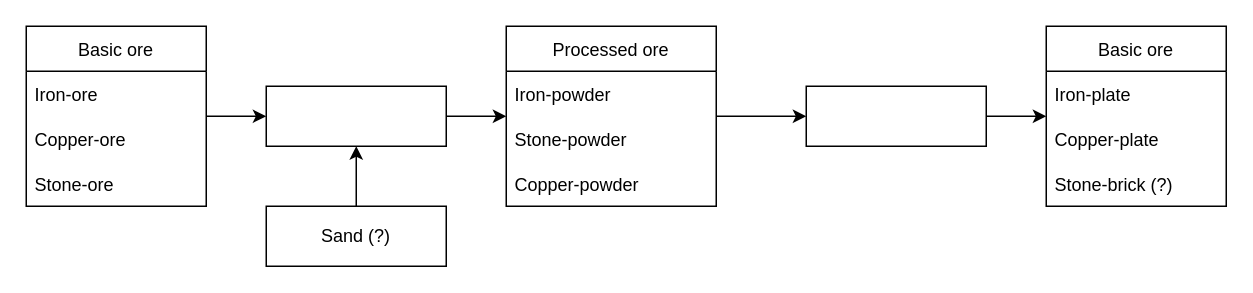
Some shapes in this 1253 by 293 pixel diagram are drawn without their labels. Each missing label, with the centre of its shape:
Burner-grinder: point 355,115
Furnace: point 895,115
